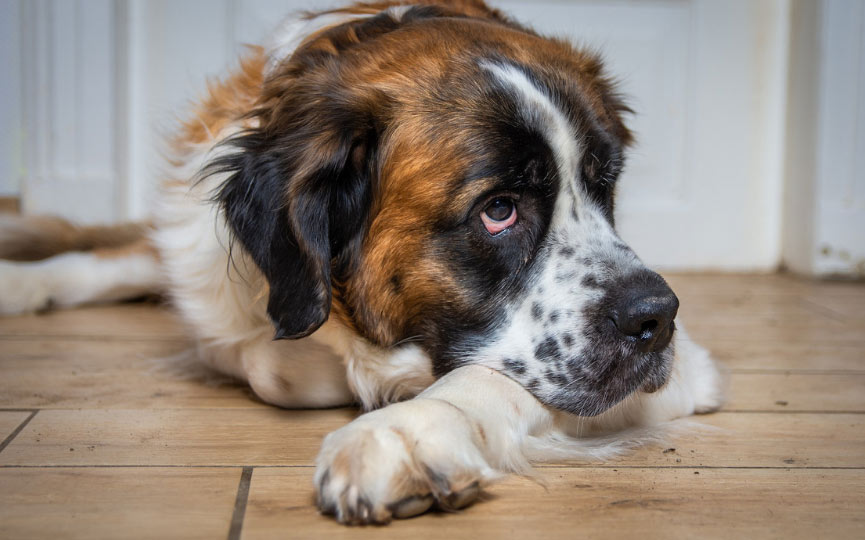dog: (151, 1, 739, 512)
